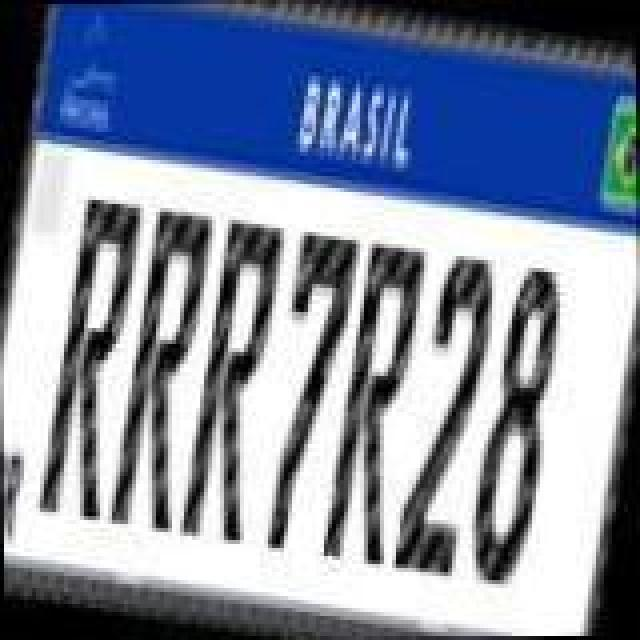2: (384, 244, 508, 584)
7: (246, 226, 366, 558)
8: (456, 252, 580, 588)
R: (102, 196, 226, 536), (316, 234, 440, 574), (172, 214, 296, 550), (36, 188, 156, 524)
